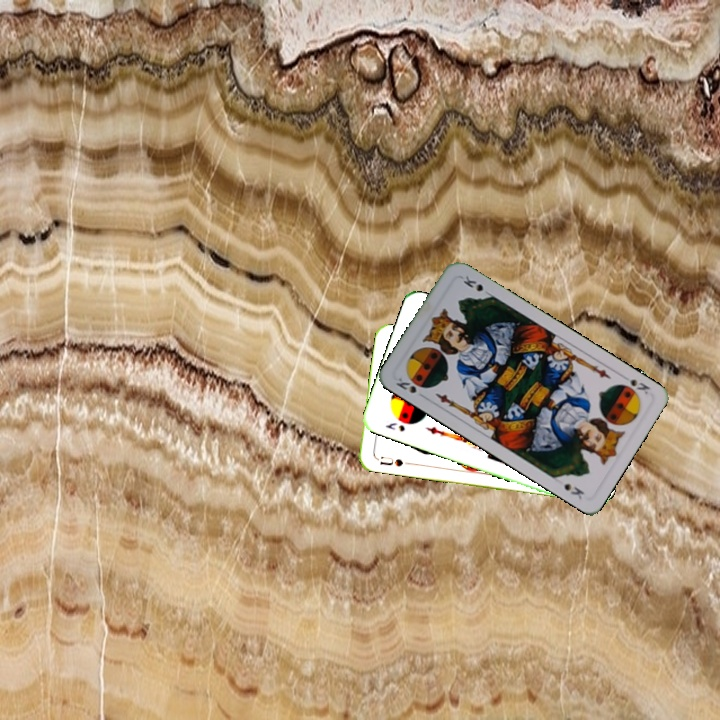SK: (615, 370, 653, 398), (392, 373, 419, 396), (381, 419, 408, 434)
SU: (372, 452, 406, 469)
